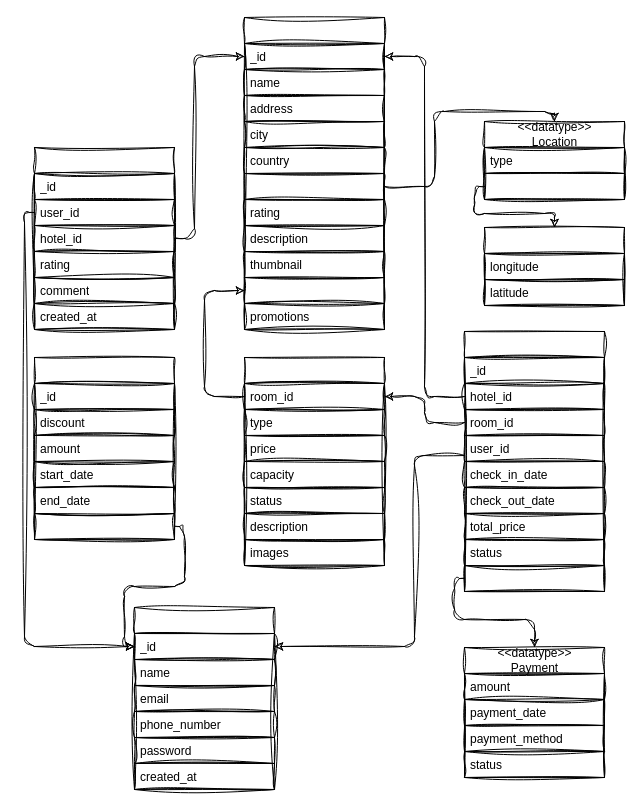
Some shapes in this 642 by 810 pixel diagram are drawn without their labels. Each missing label, with the box of its shape:
<<datatype>> Coordinate: (484, 226, 624, 306)
<<datatype>> Room: (244, 356, 384, 566)
Booking: (464, 330, 604, 592)
coordinates: (484, 172, 624, 200)
Hotel: (244, 16, 384, 330)
location: (244, 172, 384, 200)
payment: (464, 564, 604, 592)
Review: (34, 146, 174, 330)
rooms: (244, 276, 384, 304)
User: (134, 606, 274, 790)
users_used: (34, 512, 174, 540)
Voucher: (34, 356, 174, 540)
